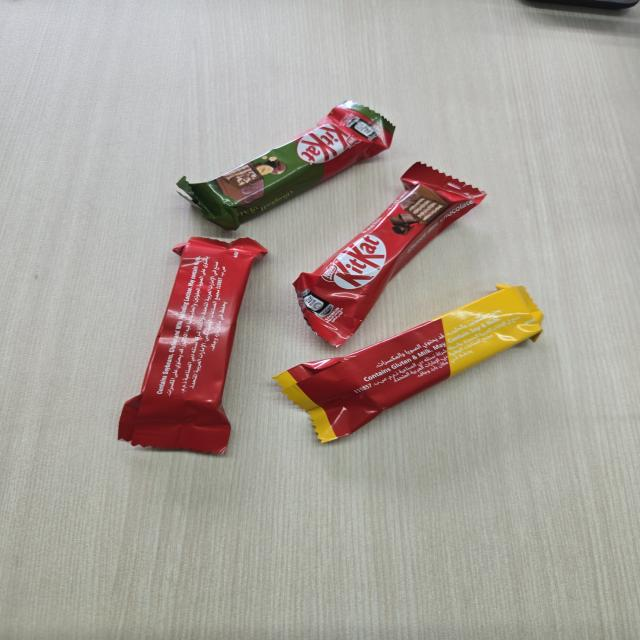chocolate-bar: (272, 278, 551, 452), (291, 160, 489, 354), (108, 234, 270, 462), (173, 100, 399, 234)
